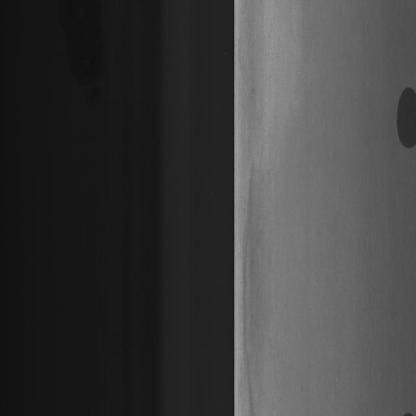oil_spot: (390, 78, 416, 167)
